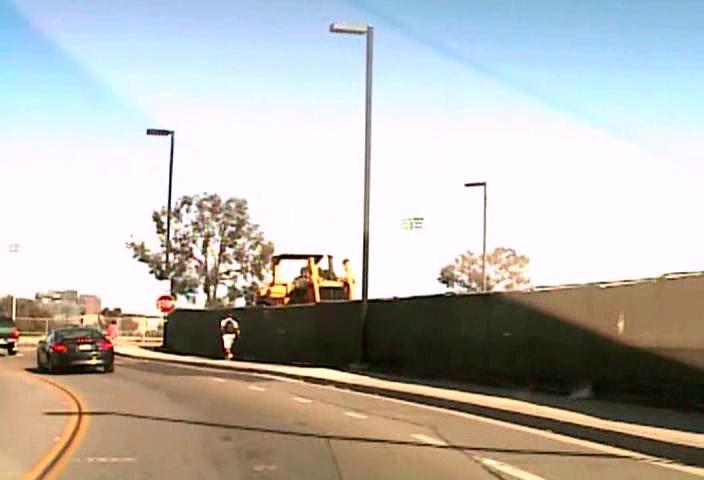stop: (155, 294, 174, 313)
